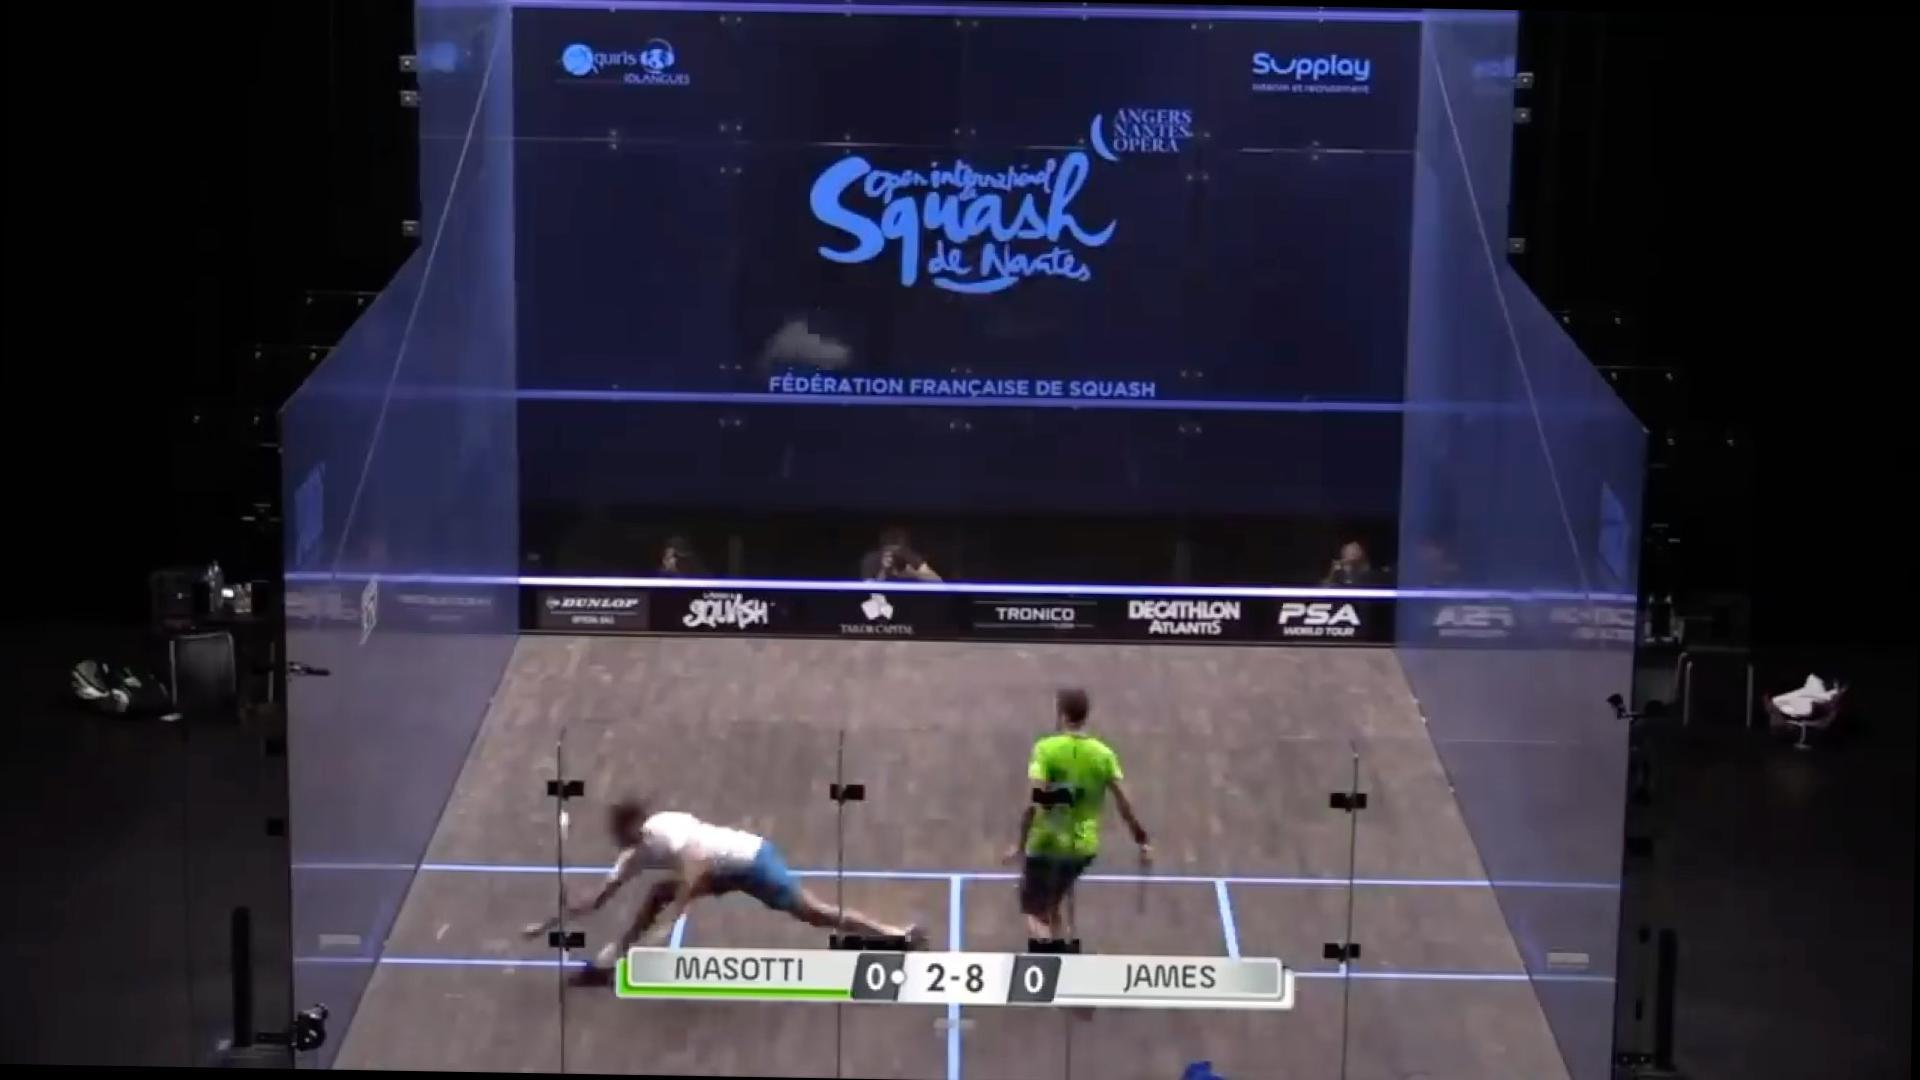Squash-Ball: (425, 915, 462, 947)
